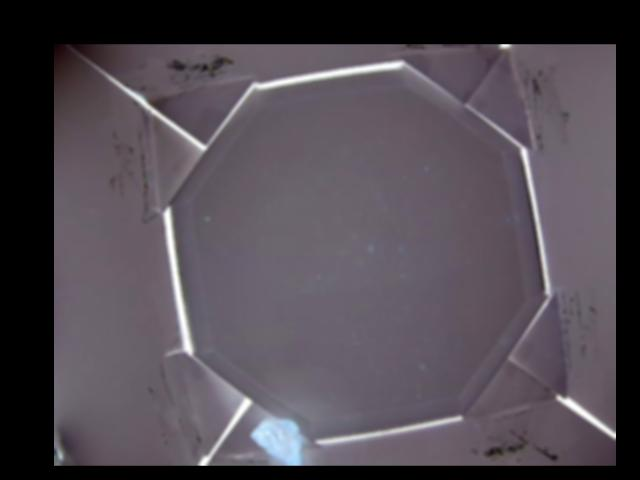Brisk: (248, 417, 302, 465)
